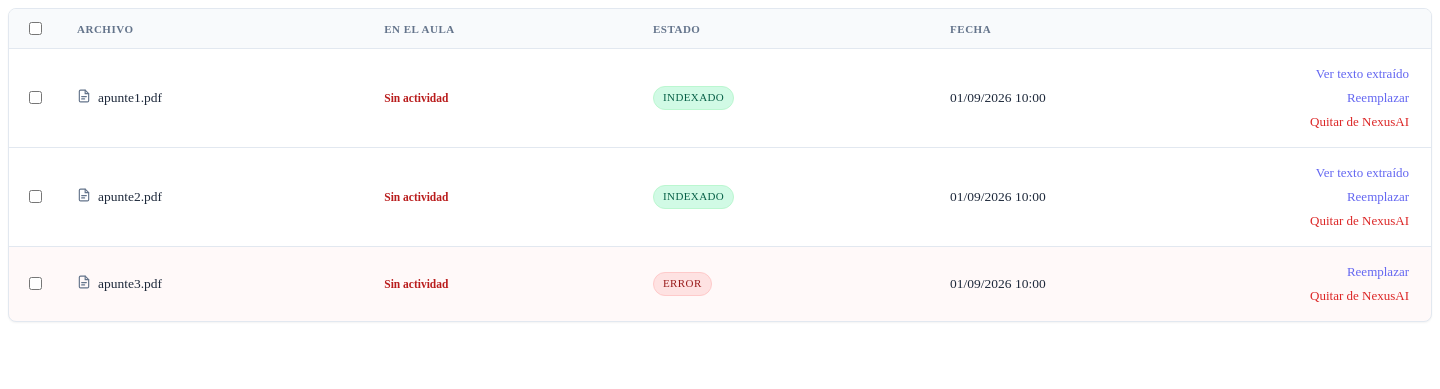
it: DocumentsTable — selección múltiple › select-all selects every row and toggling it again clears the selection
What coordinates should you click on to do the following:
click the checkbox named "Seleccionar todos los documentos"
I would click on:
 (36, 28)
Its box is [29,22,42,35].
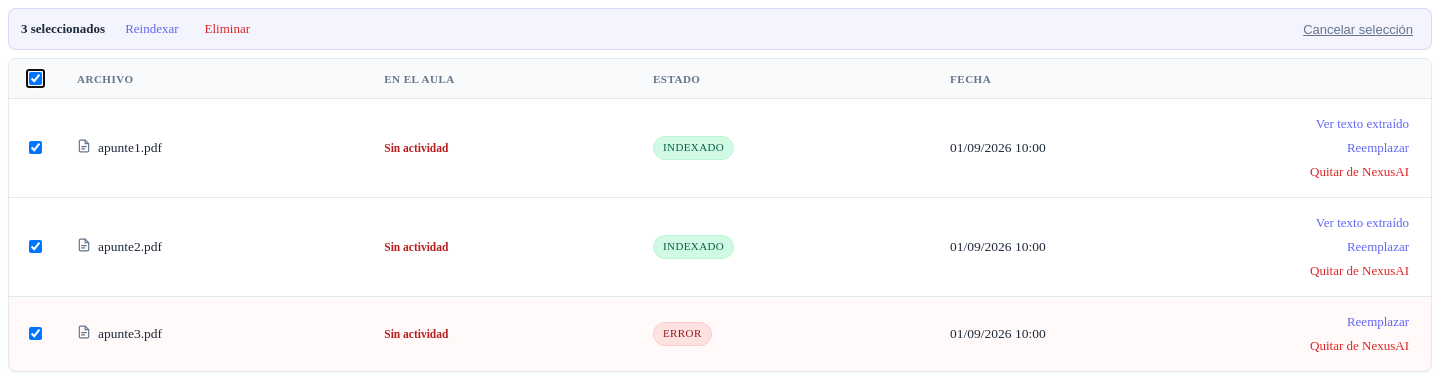
Expected: the text "3 seleccionados" is shown, [21,21,105,37]
What coordinates should you click on to do the following:
click the checkbox named "Seleccionar todos los documentos"
I would click on:
 (36, 78)
Its box is [29,72,42,85].
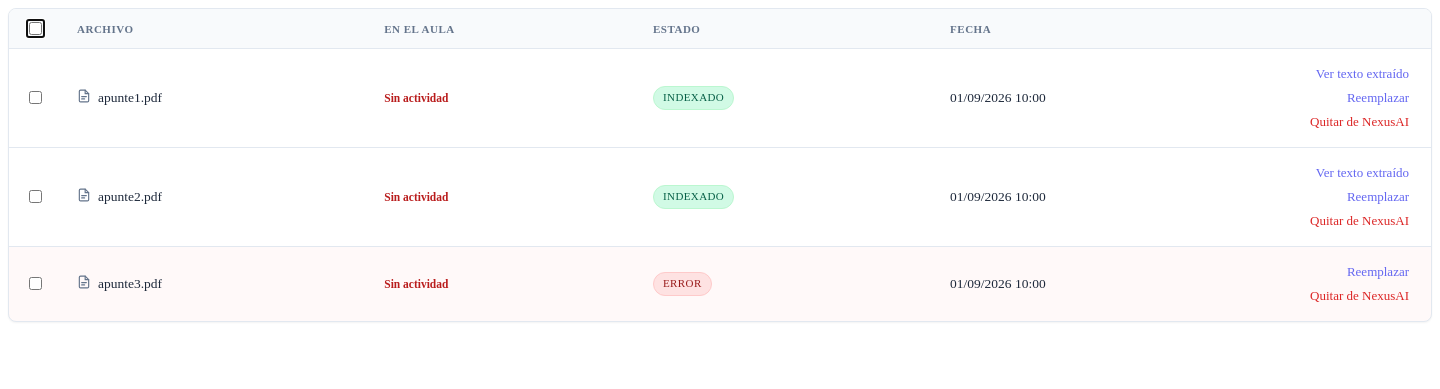
Expected: the text "seleccionado" is gone
